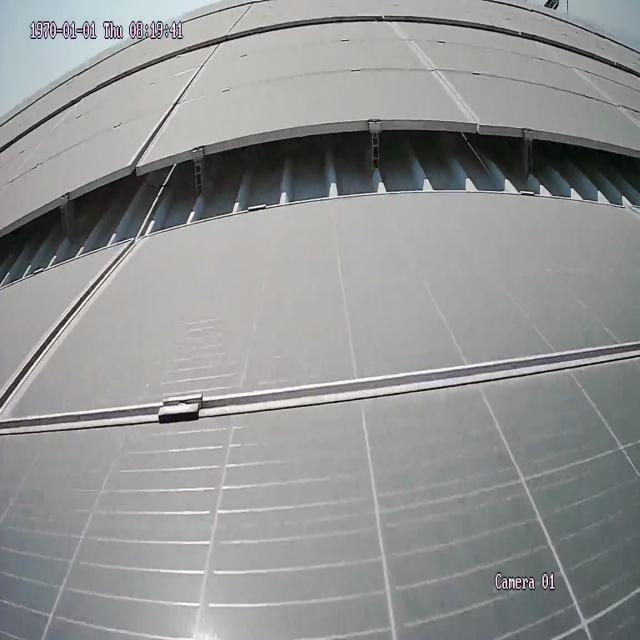interior panel: (1, 258, 640, 442), (131, 53, 223, 156), (391, 28, 482, 118)
outher panel: (0, 118, 637, 287)
